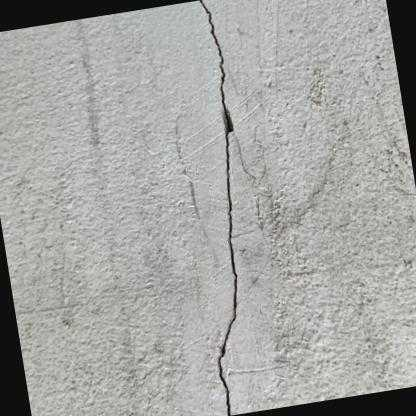crack: (198, 0, 236, 416)
